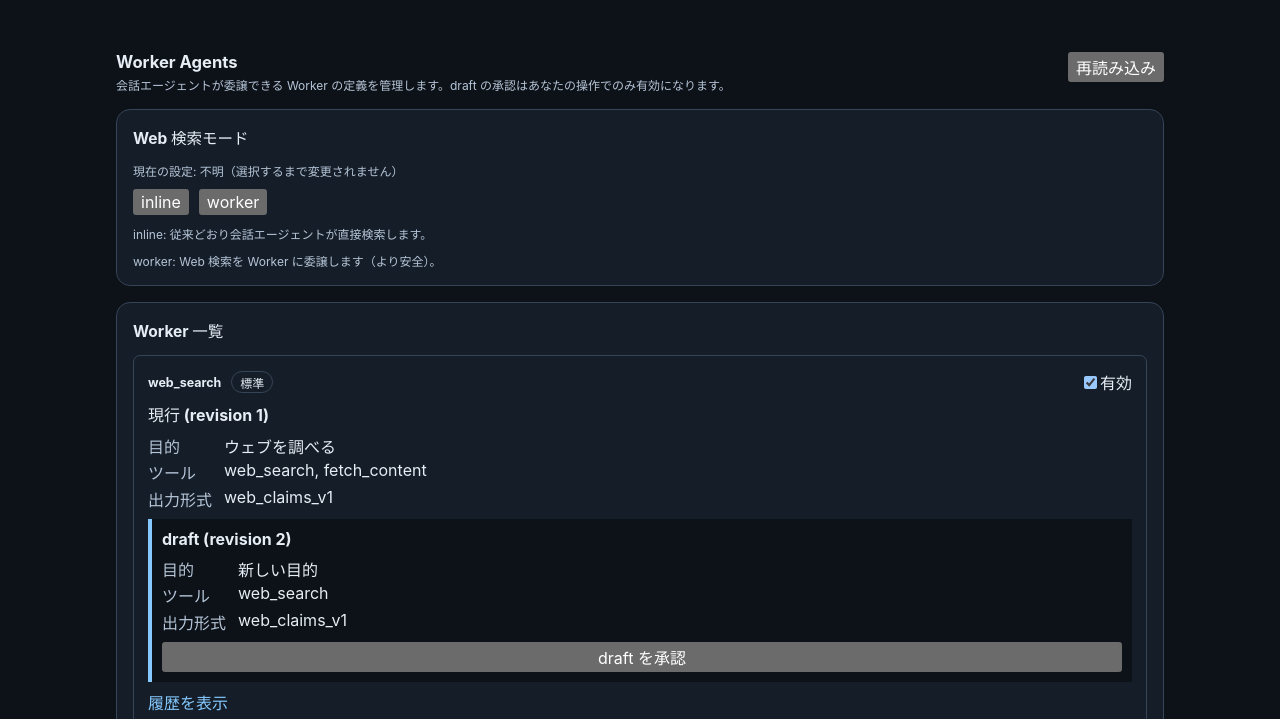
Test: approving a draft needs confirmation and sends the draft's hash
Click the button "draft を承認" at (642, 657), box [162,642,1122,672]
(page scrolled)
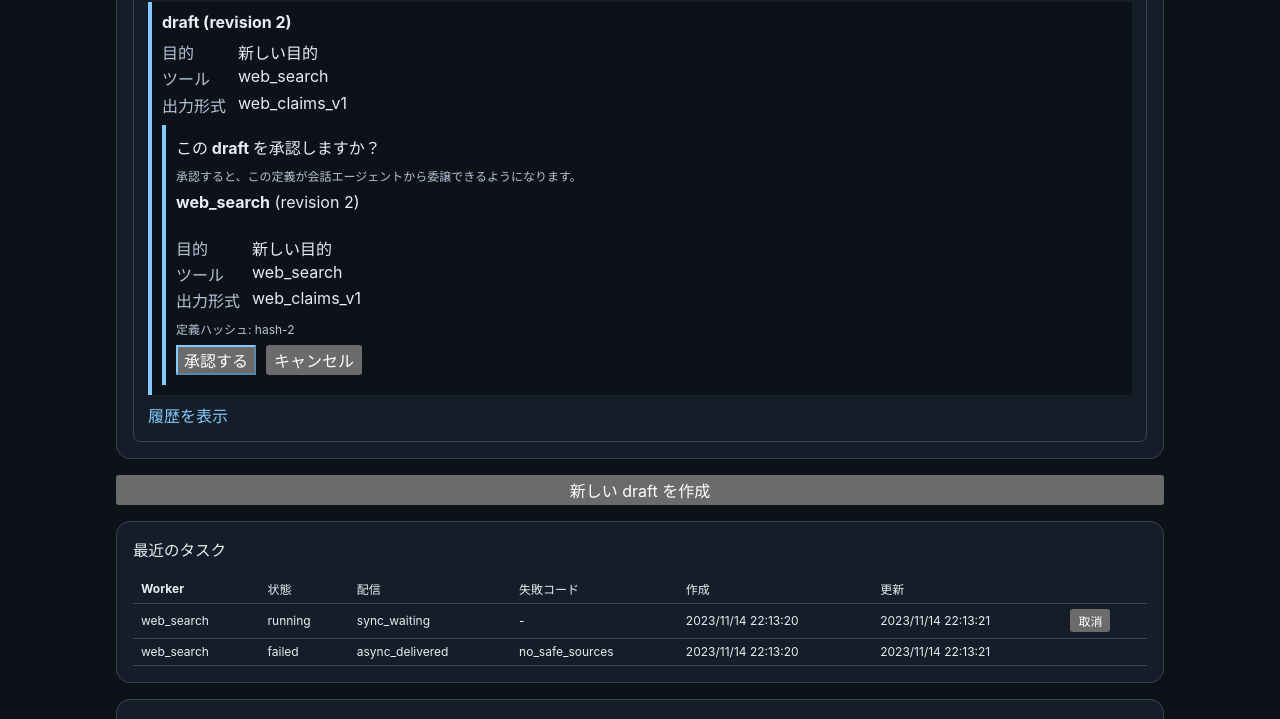
Expected: the dialog shows "新しい目的", [252,239,332,259]
Expected: the dialog shows "hash-2", [255,322,295,337]
Click the button "キャンセル" at (314, 360), box [266,345,362,375]
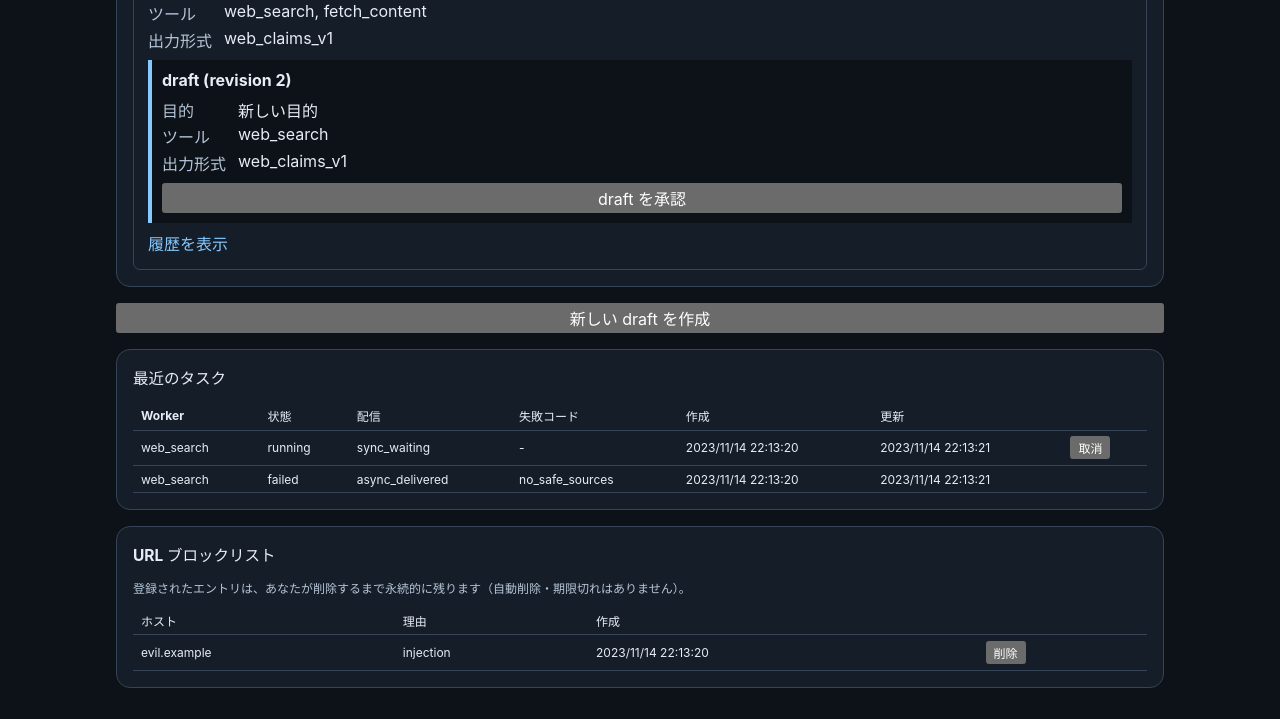
Expected: the dialog is gone
Click the button "draft を承認" at (642, 198), box [162,183,1122,213]
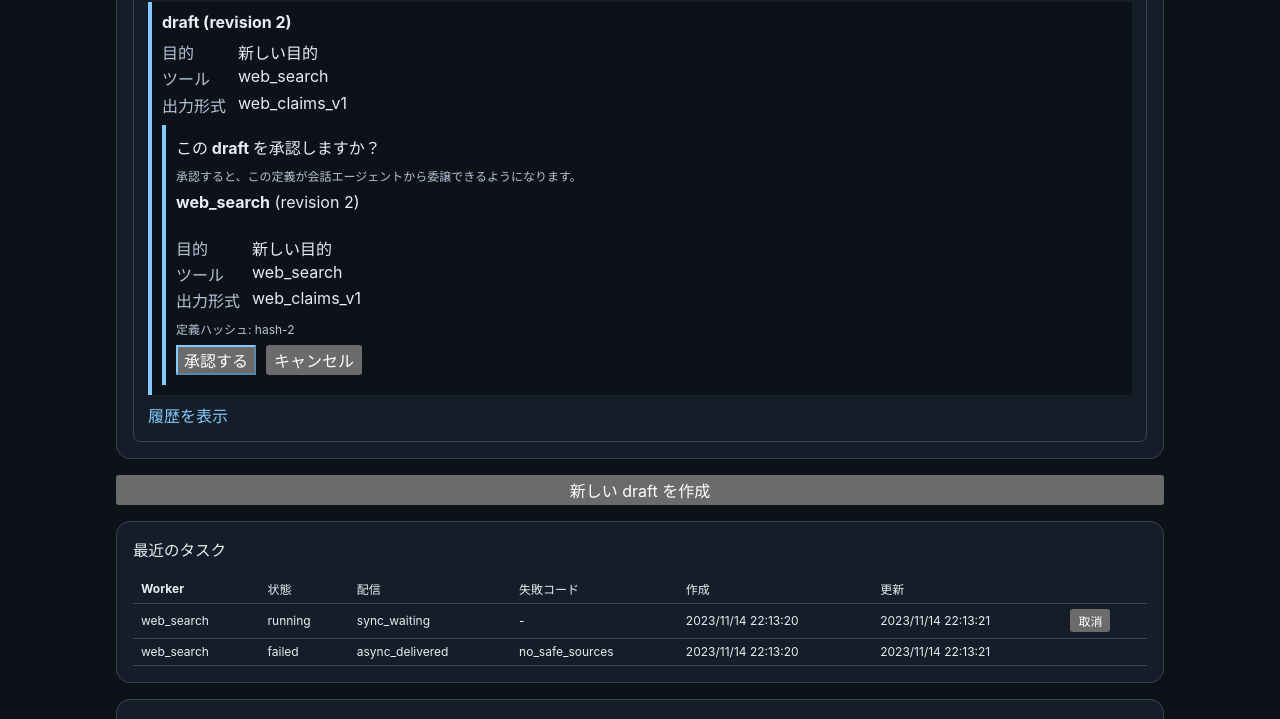
Click the button "承認する" at (216, 360), box [176,345,256,375]
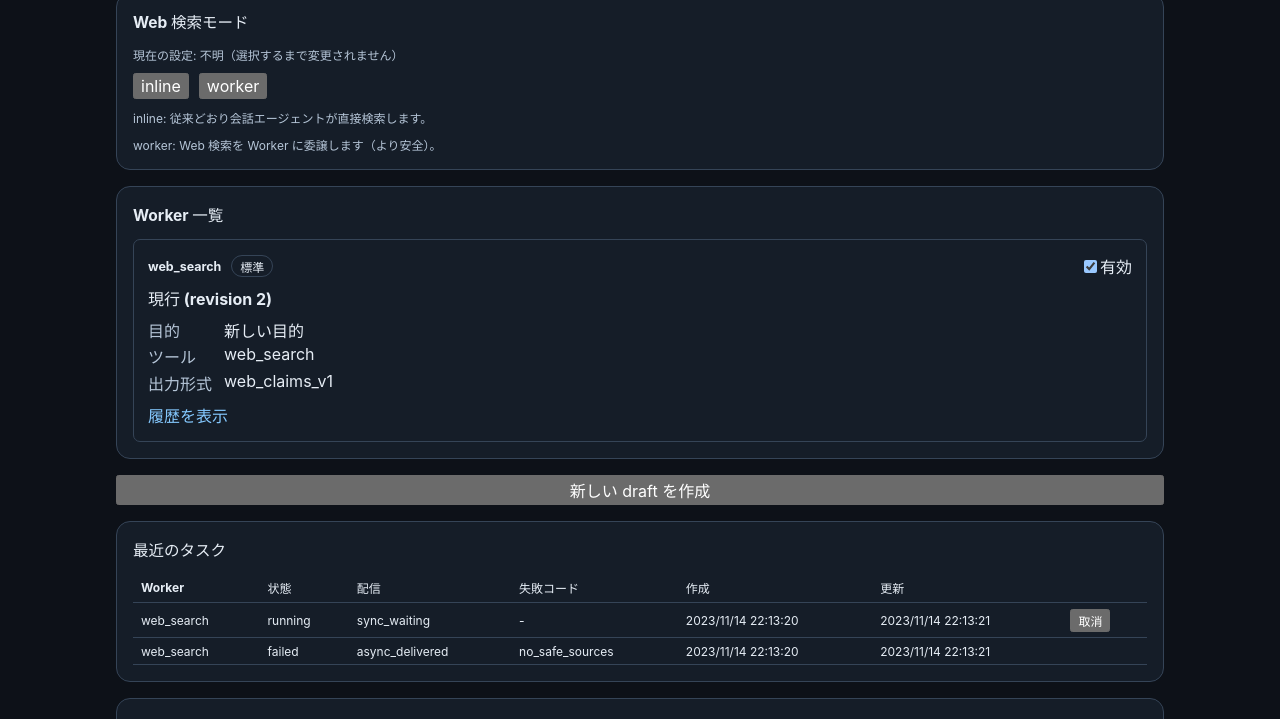
Expected: the list item shows "現行 (revision 2)", [133,239,1147,442]
Expected: the heading "この draft を承認しますか？" no longer shows "draft を承認"
